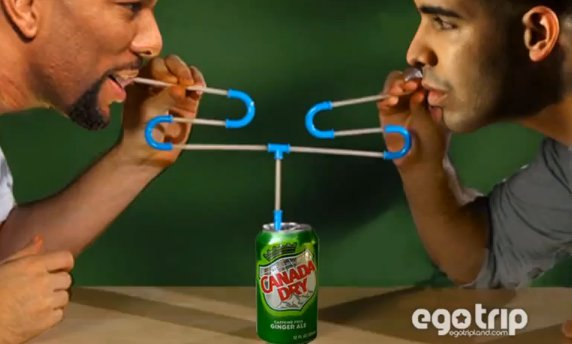Lata: (252, 217, 320, 342)
